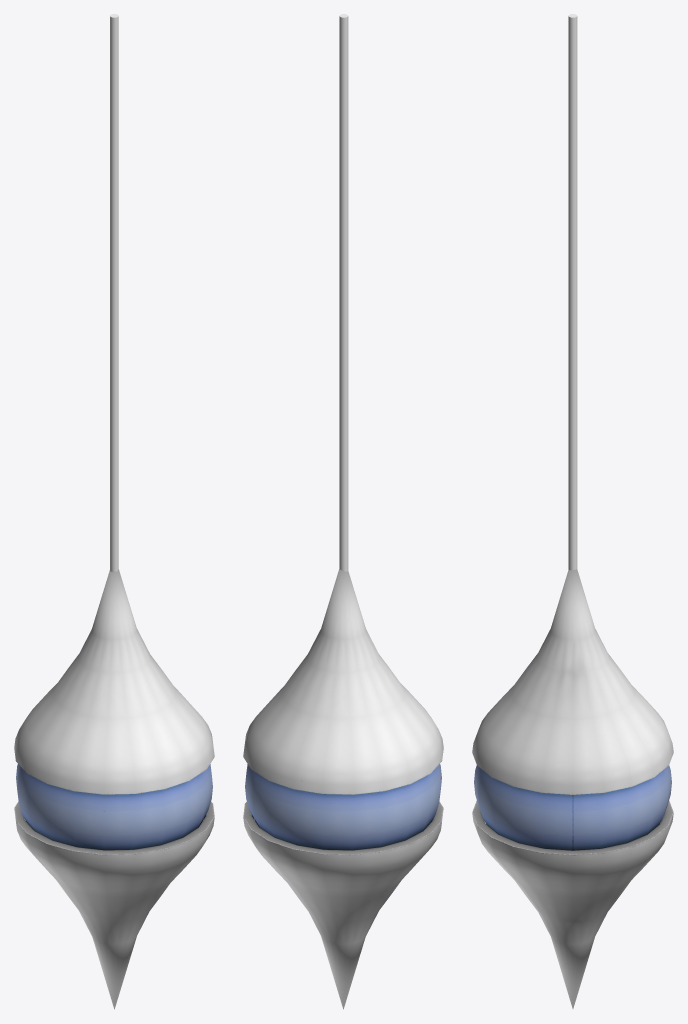
Rendered from Lampe_Plafond.fbx.
3 renders of one model, left to right at view 1: azimuth 30°, elevation 25°; view 2: azimuth 150°, elevation 25°; view 3: azimuth 270°, elevation 25°, orthographic.
Parts seen in each view (by area): view 1: Lampe_Plafond, Corde; view 2: Lampe_Plafond, Corde; view 3: Lampe_Plafond, Corde.
Boxes of the visible parts, x1,y1,x2,y2 form: Lampe_Plafond: [14, 569, 214, 1009]; Corde: [110, 14, 118, 572]; Lampe_Plafond: [243, 568, 443, 1009]; Corde: [339, 14, 348, 571]; Lampe_Plafond: [472, 569, 673, 1008]; Corde: [568, 14, 577, 570].
Bounding box in the file's own units: 4.96 × 26.99 × 4.96.
1 material, 1 textured.
